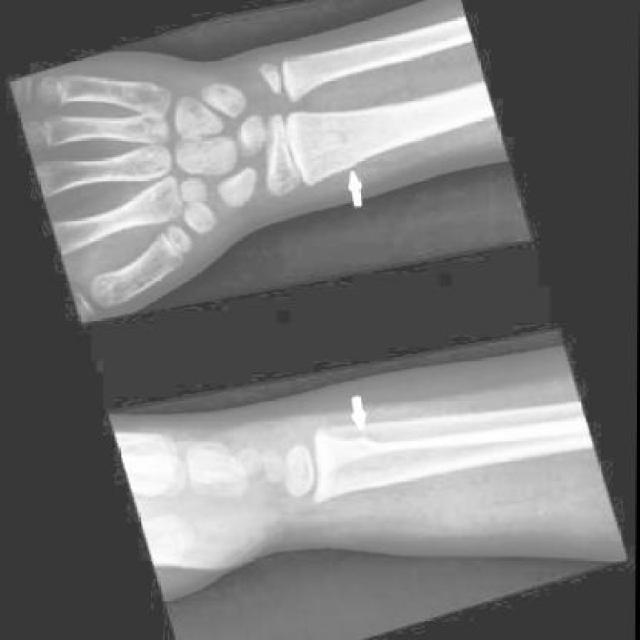Fracture: (345, 422, 398, 496), (323, 105, 362, 173)
